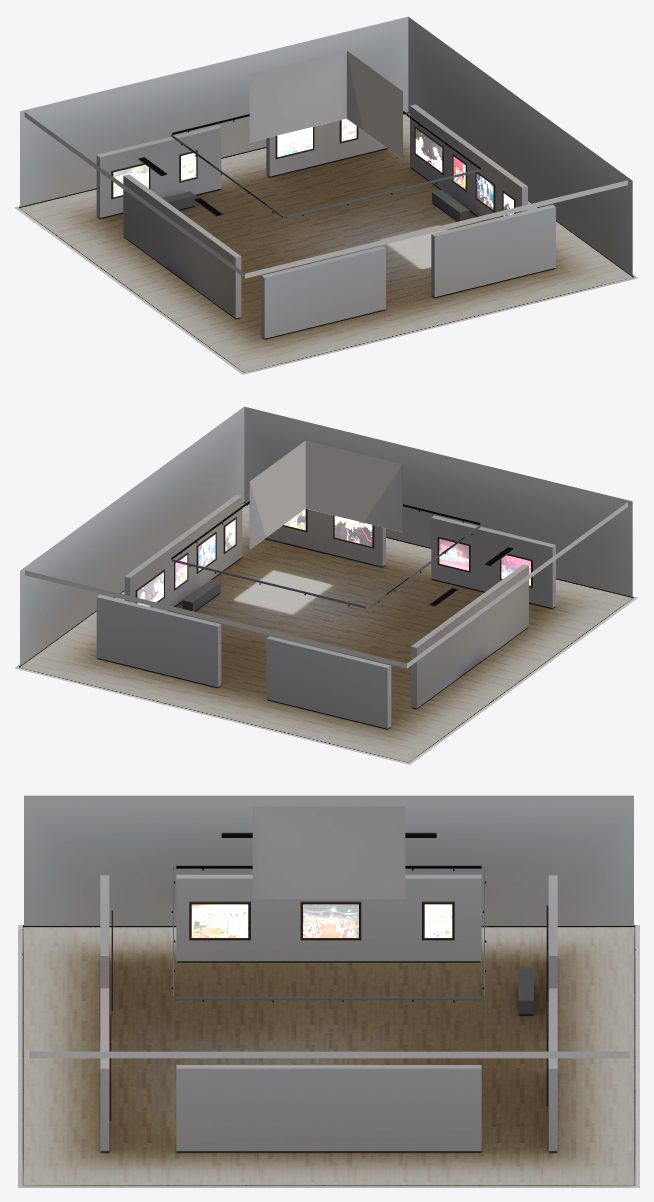
The model's file is conferences-recognitions-gallery.gltf.
3 renders of one model, top to bottom at view 1: azimuth 30°, elevation 25°; view 2: azimuth 150°, elevation 25°; view 3: azimuth 270°, elevation 25°, orthographic. The views are drawn at different scales.
Parts seen in each view (by area): view 1: floor, walls_exterior, walls, celling, props, Section3_11_VFest_Day_2_2011, Section1_01_Scan-265, Section3_09_IMG_0023, Section1_03_Scan-02, Section3_10_31-Veggie-Fest-v2; view 2: floor, walls_exterior, walls, celling, props, Section1_06_100_3074-re, Section2_07A_960941_19, Section1_01_Scan-265, Section1_03_Scan-02, Section2_07B_940219_33; view 3: floor, walls_exterior, walls, celling, props, Section2_07C_sep_india_2013-3-1, Section2_07D_160919A_(470), Section2_08_april_6.
Part boxes in pixels (x1,y1,x2,y2): floor: [14, 113, 637, 374]; walls_exterior: [19, 16, 633, 277]; walls: [96, 104, 555, 339]; celling: [24, 50, 627, 278]; props: [138, 110, 481, 221]; Section3_11_VFest_Day_2_2011: [275, 126, 314, 158]; Section1_01_Scan-265: [414, 126, 443, 174]; Section3_09_IMG_0023: [111, 163, 150, 199]; Section1_03_Scan-02: [475, 172, 495, 212]; Section3_10_31-Veggie-Fest-v2: [179, 150, 197, 182]; floor: [14, 503, 637, 764]; walls_exterior: [19, 406, 633, 667]; walls: [96, 494, 555, 729]; celling: [24, 440, 627, 668]; props: [171, 500, 514, 611]; Section1_06_100_3074-re: [333, 515, 374, 548]; Section2_07A_960941_19: [437, 536, 470, 572]; Section1_01_Scan-265: [135, 569, 164, 607]; Section1_03_Scan-02: [196, 532, 216, 573]; Section2_07B_940219_33: [500, 552, 532, 587]; floor: [18, 925, 639, 1187]; walls_exterior: [22, 795, 635, 954]; walls: [100, 874, 557, 1152]; celling: [28, 806, 629, 1058]; props: [171, 832, 533, 1015]; Section2_07C_sep_india_2013-3-1: [189, 901, 250, 940]; Section2_07D_160919A_(470): [300, 901, 361, 940]; Section2_08_april_6: [422, 901, 454, 940].
Bounding box in the file's own units: 16.65 × 6.44 × 16.75.
